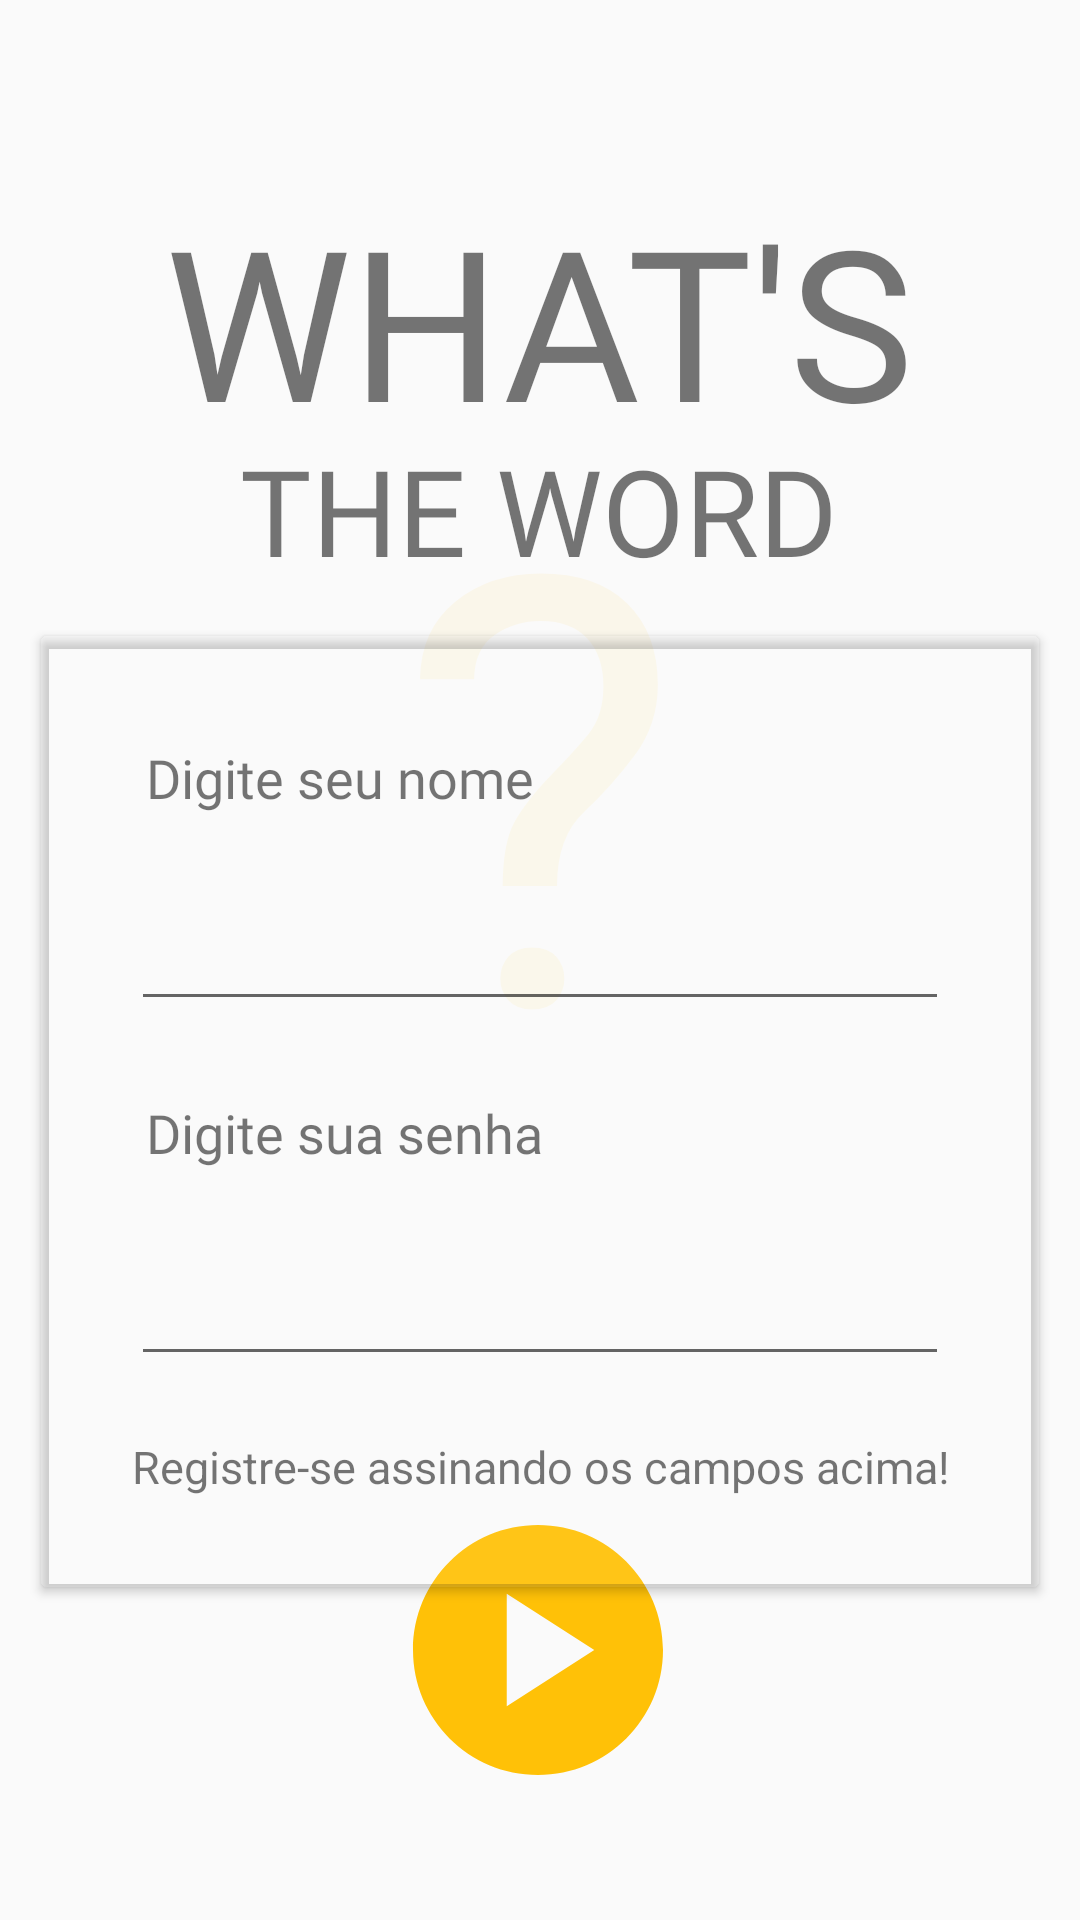

Icons on this 1080 x 1920 Android screen, each with its box as (x1, y1, x2, y2):
btnplaystart: (388, 1525, 688, 1775)
